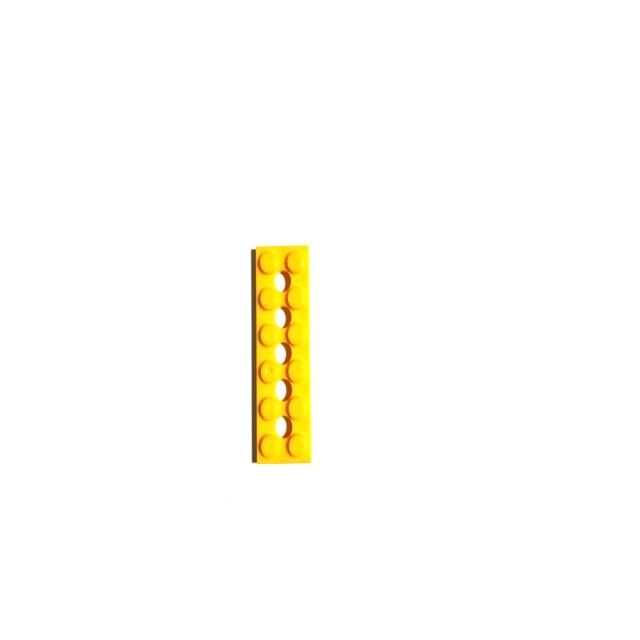Yellow_Medium: (249, 244, 315, 469)
